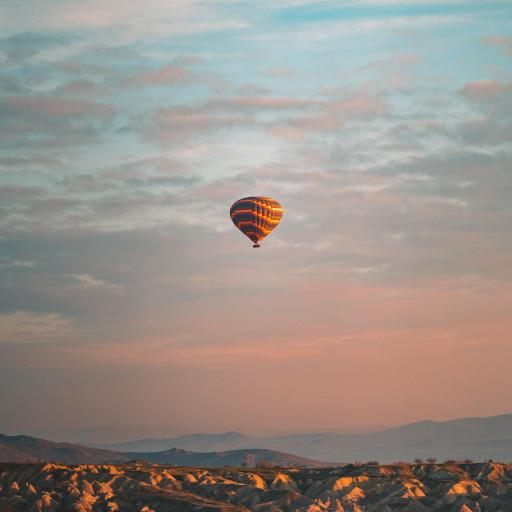hot air ballon: (228, 194, 289, 252)
